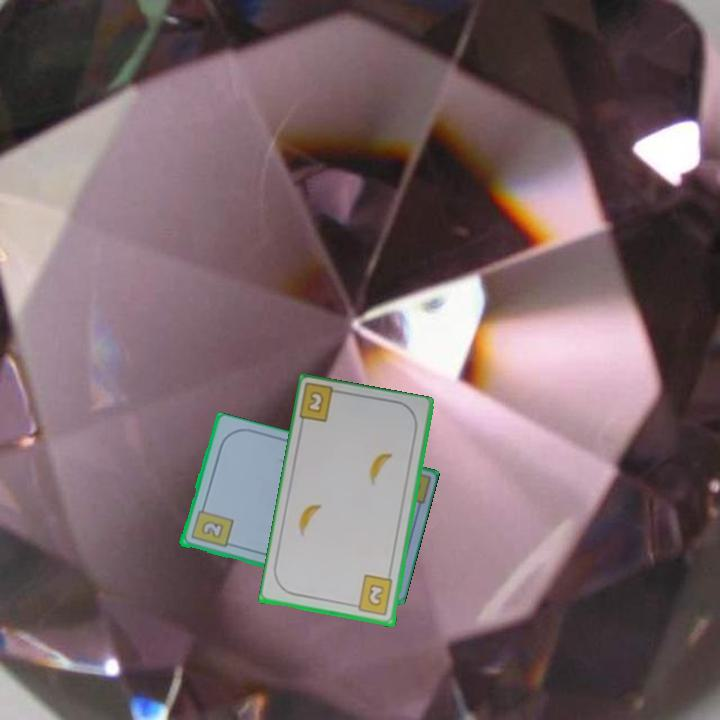2b: (187, 501, 235, 551), (349, 572, 396, 619), (296, 382, 346, 425)
